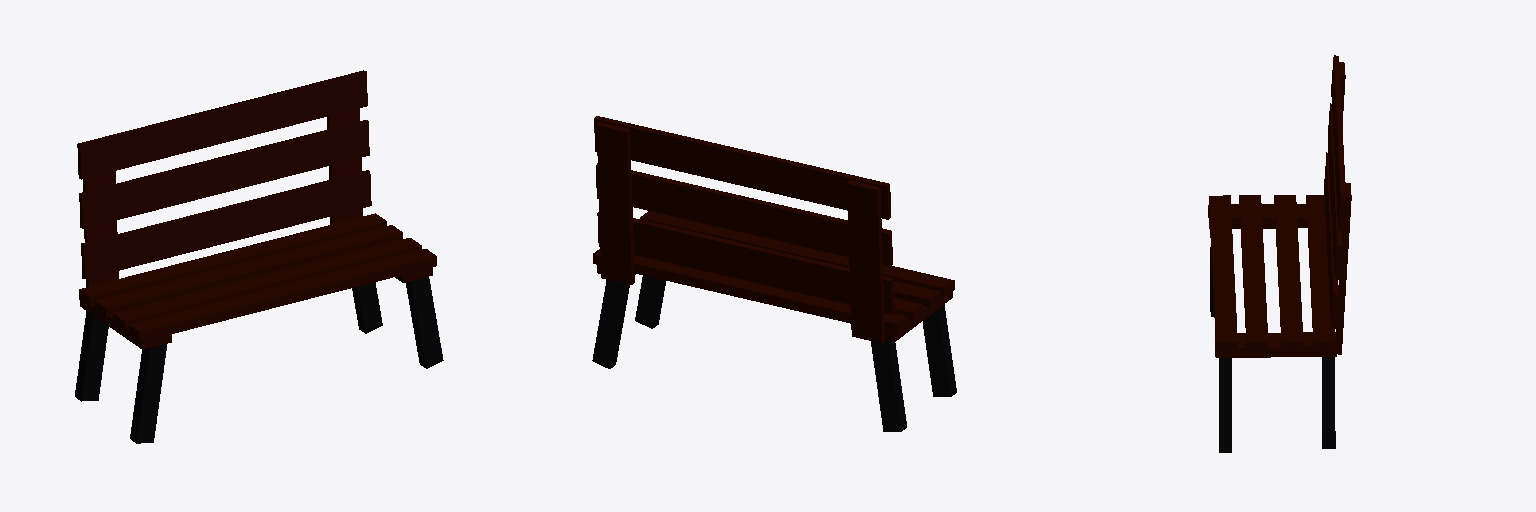
The model's file is bench.obj.
3 renders of one model, left to right at view 1: azimuth 30°, elevation 25°; view 2: azimuth 150°, elevation 25°; view 3: azimuth 270°, elevation 25°, orthographic.
Parts seen in each view (by area): view 1: Cube.010, Cube.011, Cube.012, Cube.007, Cube.005, Cube.004, Cube.006, Cube, Cube.001, Cube.002, Cube.013, Cube.014 (+2 smaller); view 2: Cube.012, Cube.010, Cube.011, Cube.014, Cube.013, Cube.004, Cube.007, Cube.002, Cube, Cube.003, Cube.001, Cube.006; view 3: Cube.006, Cube.005, Cube.007, Cube.004, Cube.012, Cube.009, Cube.001, Cube.003, Cube.010, Cube.011, Cube.013, Cube.008.
Boxes of the visible parts, box(x1,y1,x2,y2) form: Cube.010: box(81, 170, 371, 278); Cube.011: box(79, 120, 369, 228); Cube.012: box(77, 70, 367, 179); Cube.007: box(129, 249, 436, 341); Cube.005: box(95, 225, 402, 318); Cube.004: box(79, 213, 386, 306); Cube.006: box(113, 238, 421, 330); Cube: box(130, 344, 166, 443); Cube.001: box(406, 277, 443, 368); Cube.002: box(75, 311, 108, 401); Cube.013: box(327, 108, 362, 224); Cube.014: box(83, 171, 118, 286); Cube.012: box(594, 116, 890, 219); Cube.010: box(597, 212, 894, 314); Cube.011: box(596, 163, 892, 266); Cube.014: box(847, 180, 884, 343); Cube.013: box(597, 122, 634, 284); Cube.004: box(593, 249, 907, 333); Cube.007: box(640, 211, 954, 297); Cube.002: box(871, 323, 906, 431); Cube: box(923, 304, 956, 396); Cube.003: box(592, 280, 629, 368); Cube.001: box(635, 275, 665, 328); Cube.006: box(894, 281, 939, 309); Cube.006: box(1239, 195, 1267, 351); Cube.005: box(1274, 195, 1302, 351); Cube.007: box(1209, 195, 1237, 351); Cube.004: box(1306, 195, 1334, 350); Cube.012: box(1331, 55, 1345, 231); Cube.009: box(1215, 332, 1336, 357); Cube.001: box(1219, 358, 1231, 452); Cube.003: box(1322, 357, 1335, 448); Cube.010: box(1324, 152, 1338, 328); Cube.011: box(1328, 103, 1342, 279); Cube.013: box(1336, 182, 1351, 354); Cube.008: box(1208, 204, 1306, 228).
Size of the model in its own units: 6.13 by 4.77 by 2.42.